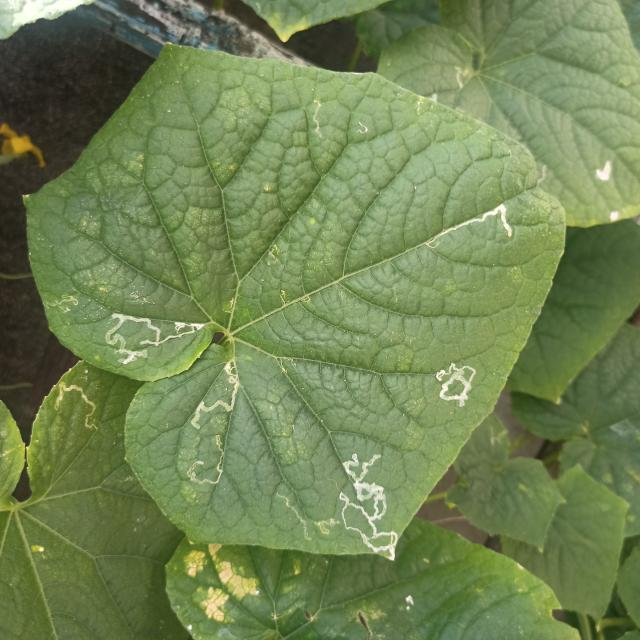disease_cucumber: (179, 534, 262, 628)
